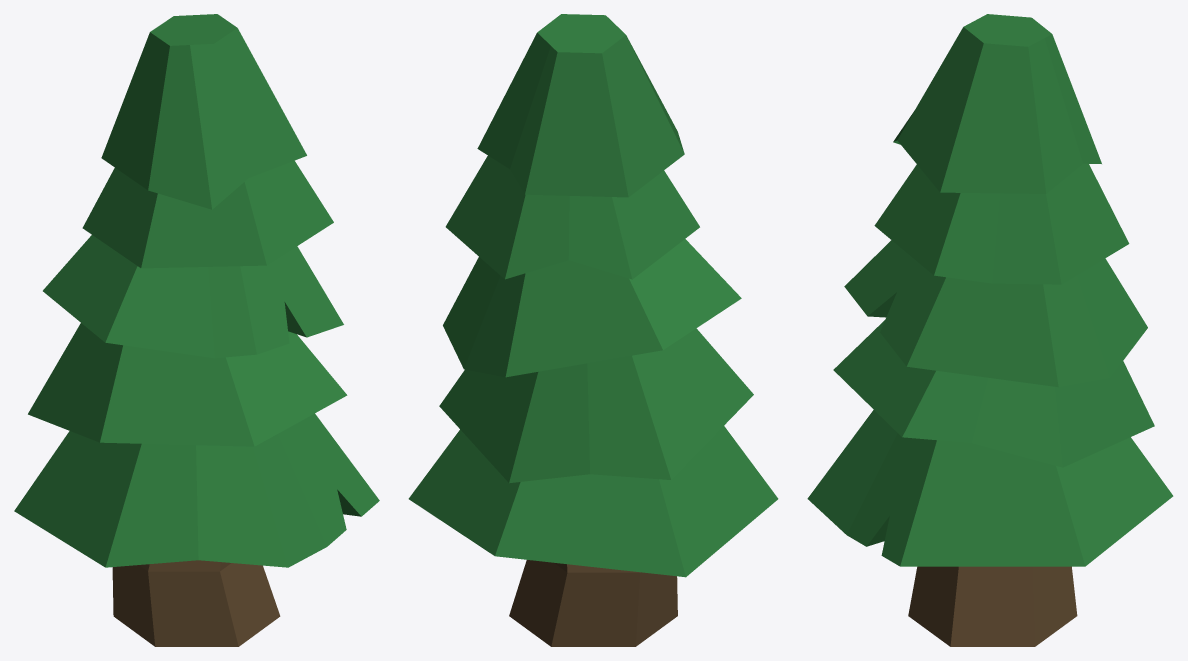
File: tree3.fbx
3 renders of one model, left to right at view 1: azimuth 30°, elevation 25°; view 2: azimuth 150°, elevation 25°; view 3: azimuth 270°, elevation 25°, orthographic.
Parts seen in each view (by area): view 1: Cylinder.001, Cylinder.002, Cylinder.005, Cylinder.003, Cylinder.004, Cylinder; view 2: Cylinder.001, Cylinder.002, Cylinder.005, Cylinder.003, Cylinder.004, Cylinder; view 3: Cylinder.001, Cylinder.003, Cylinder.005, Cylinder.002, Cylinder.004, Cylinder.
Part boxes in pixels (x1,y1,x2,y2): Cylinder.001: [14, 413, 379, 567]; Cylinder.002: [28, 323, 347, 446]; Cylinder.005: [101, 14, 306, 209]; Cylinder.003: [43, 235, 343, 358]; Cylinder.004: [82, 160, 333, 268]; Cylinder: [112, 560, 280, 646]; Cylinder.001: [408, 426, 778, 577]; Cylinder.002: [439, 328, 753, 483]; Cylinder.005: [477, 14, 684, 197]; Cylinder.003: [443, 239, 741, 377]; Cylinder.004: [445, 155, 699, 279]; Cylinder: [509, 560, 677, 646]; Cylinder.001: [807, 410, 1173, 566]; Cylinder.003: [844, 240, 1147, 387]; Cylinder.005: [893, 14, 1101, 193]; Cylinder.002: [833, 320, 1154, 467]; Cylinder.004: [874, 163, 1129, 284]; Cylinder: [908, 566, 1077, 646].
Bounding box in the file's own units: 380 × 771 × 433.
